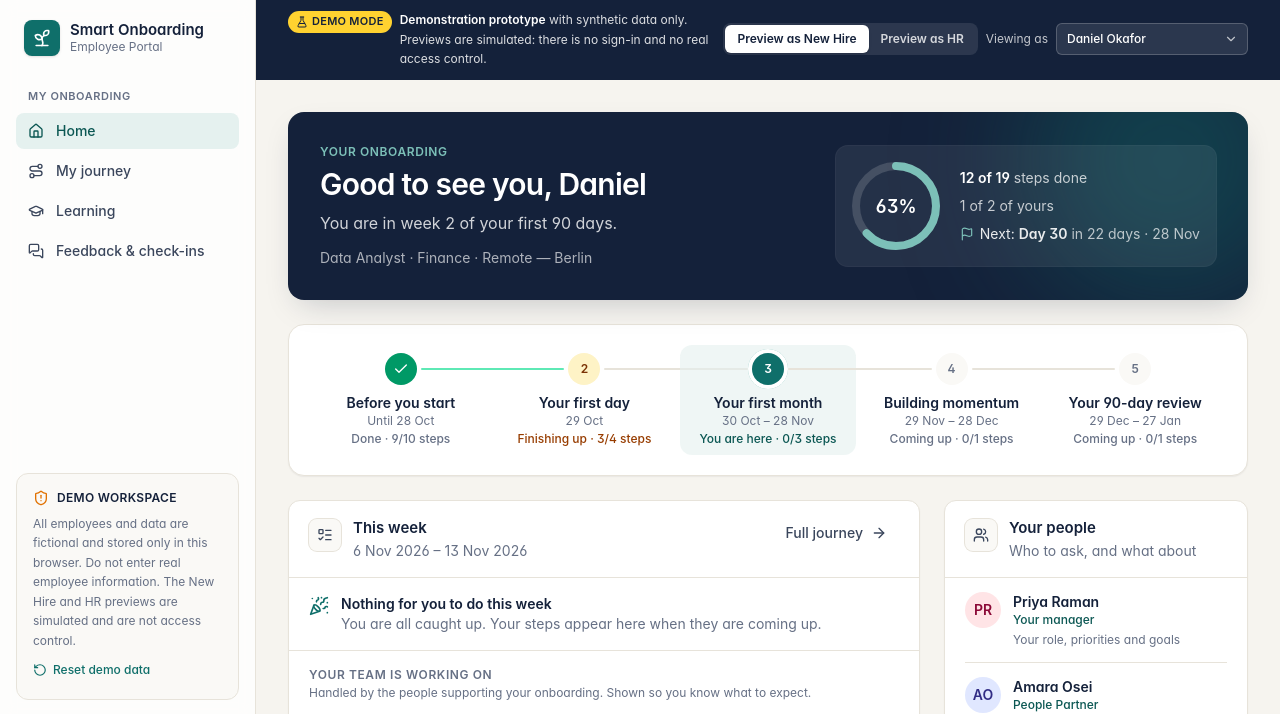
Employee portal home › lets the new hire complete their own step, which HR then sees
Select "Maya Lindqvist" in the dropdown labelled "Viewing as" at (1152,39), box [1056,23,1248,55]
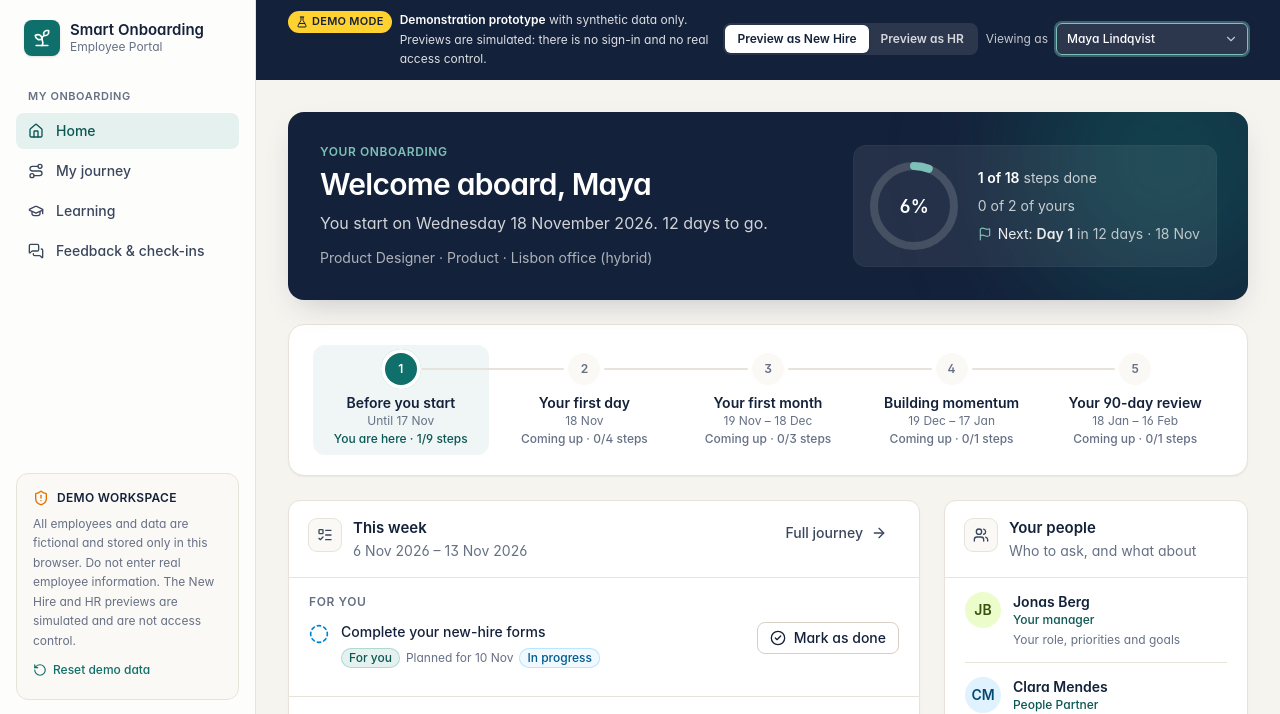
Click the button with aria-label "Mark “Complete your new-hire forms” as done" at (828,638), box [757,622,899,654]
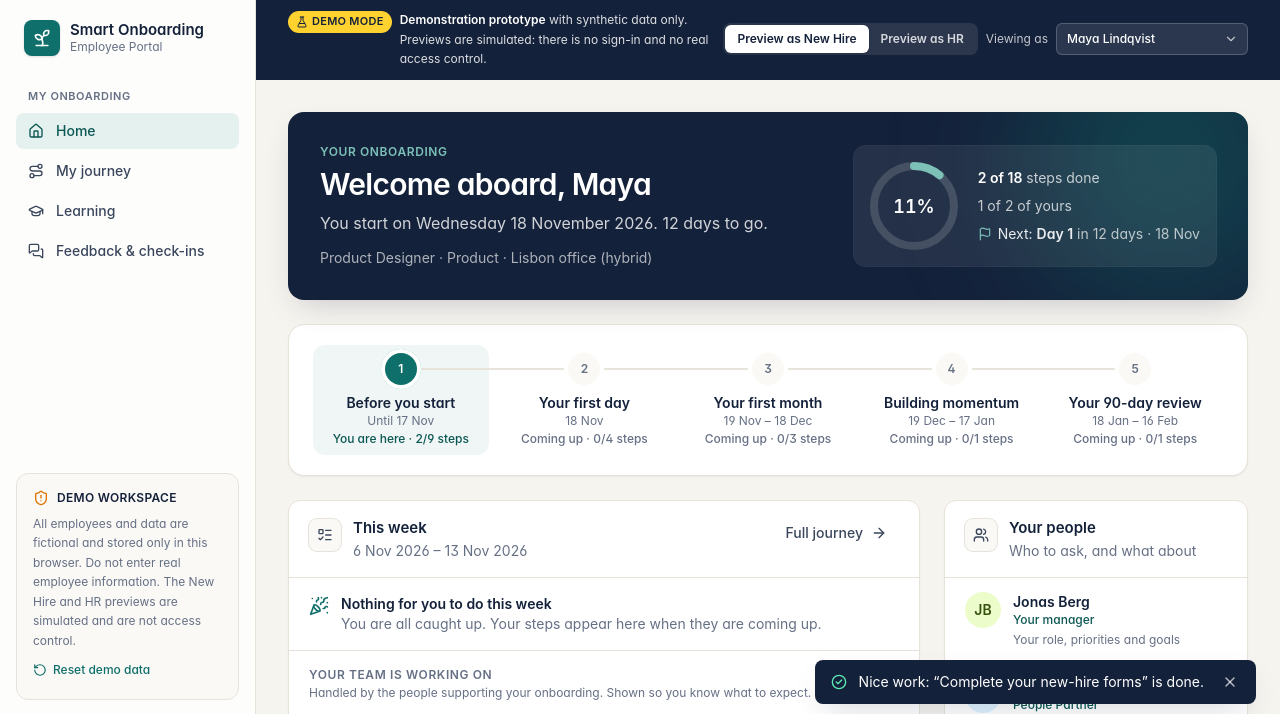
expect the message shows "“Complete your new-hire forms” is done": met, box [859,673,1204,690]
expect the text "Nothing for you to do this week" is shown: met, box [341,595,552,612]
